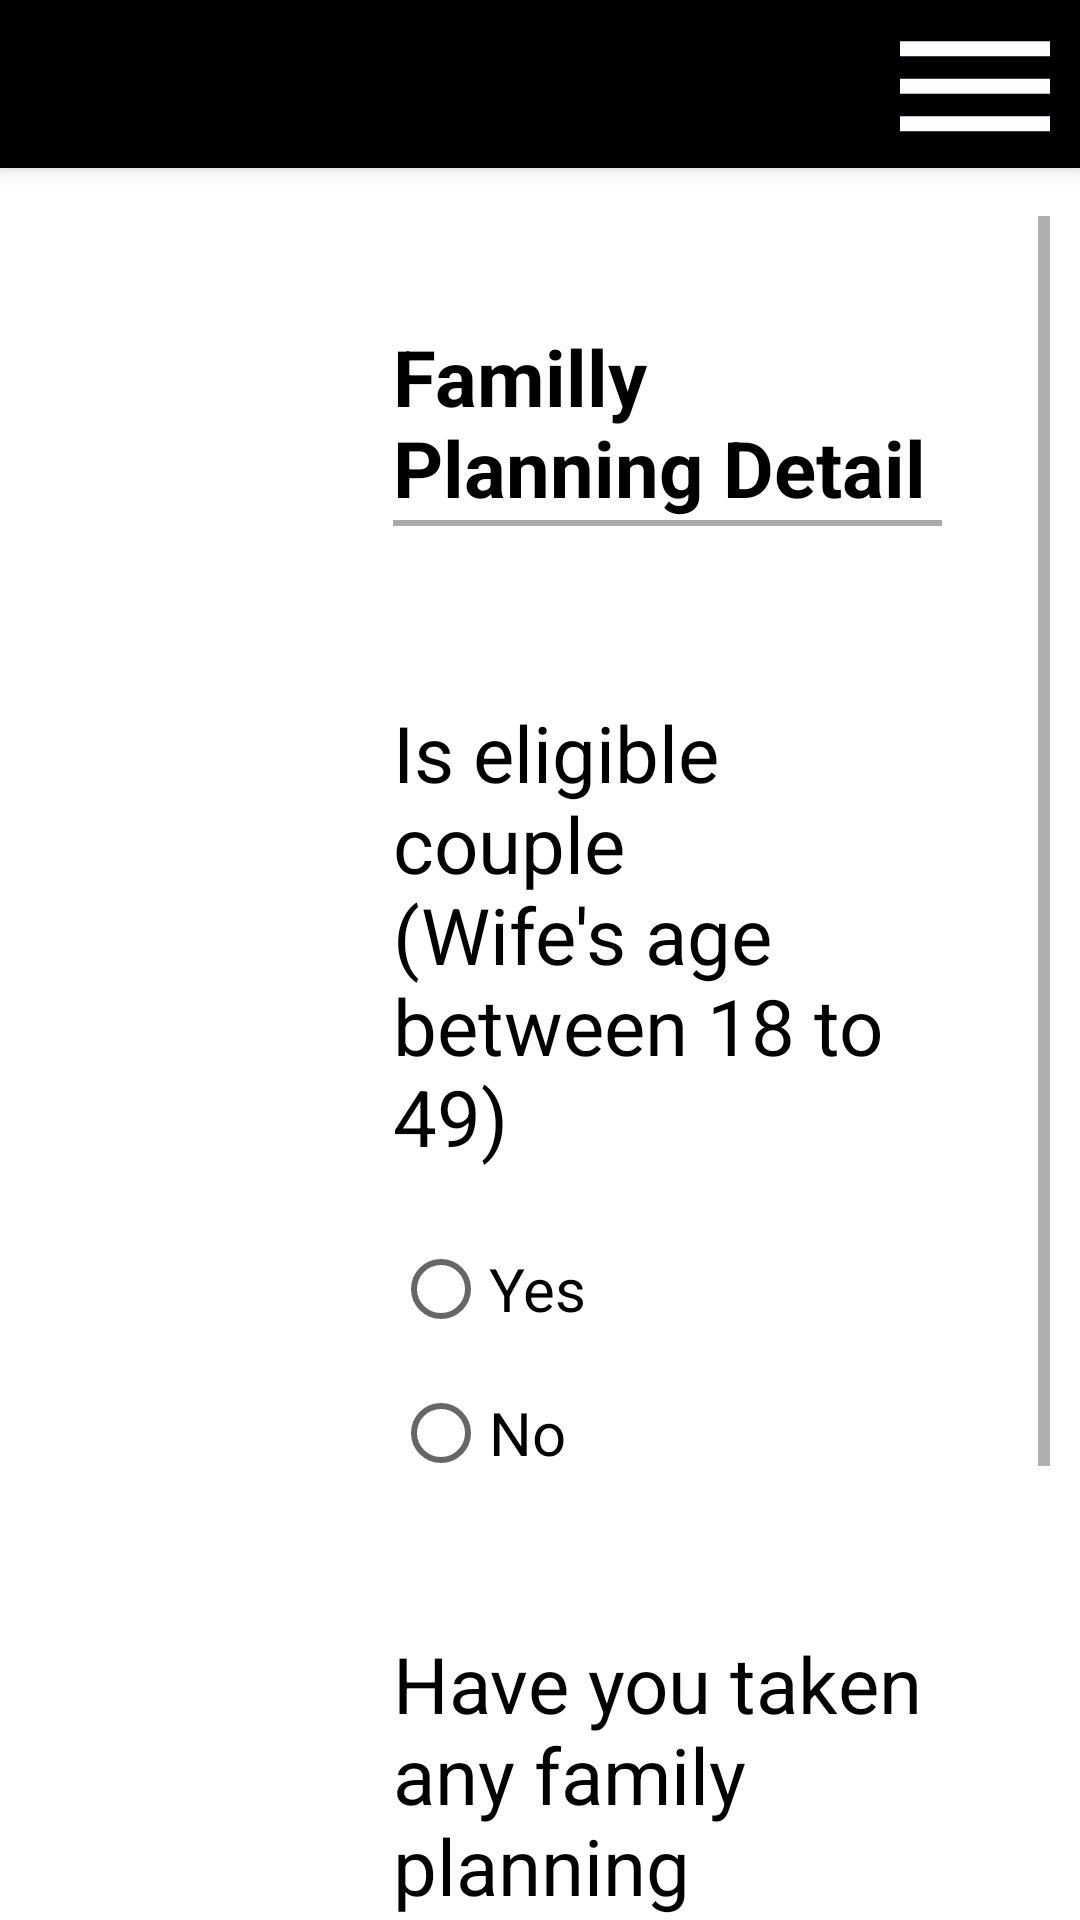

Icons on this 1080x1920 Android screen, each with its box as region(x1, y1, x2, y2):
dehaze: region(900, 41, 1050, 132)
